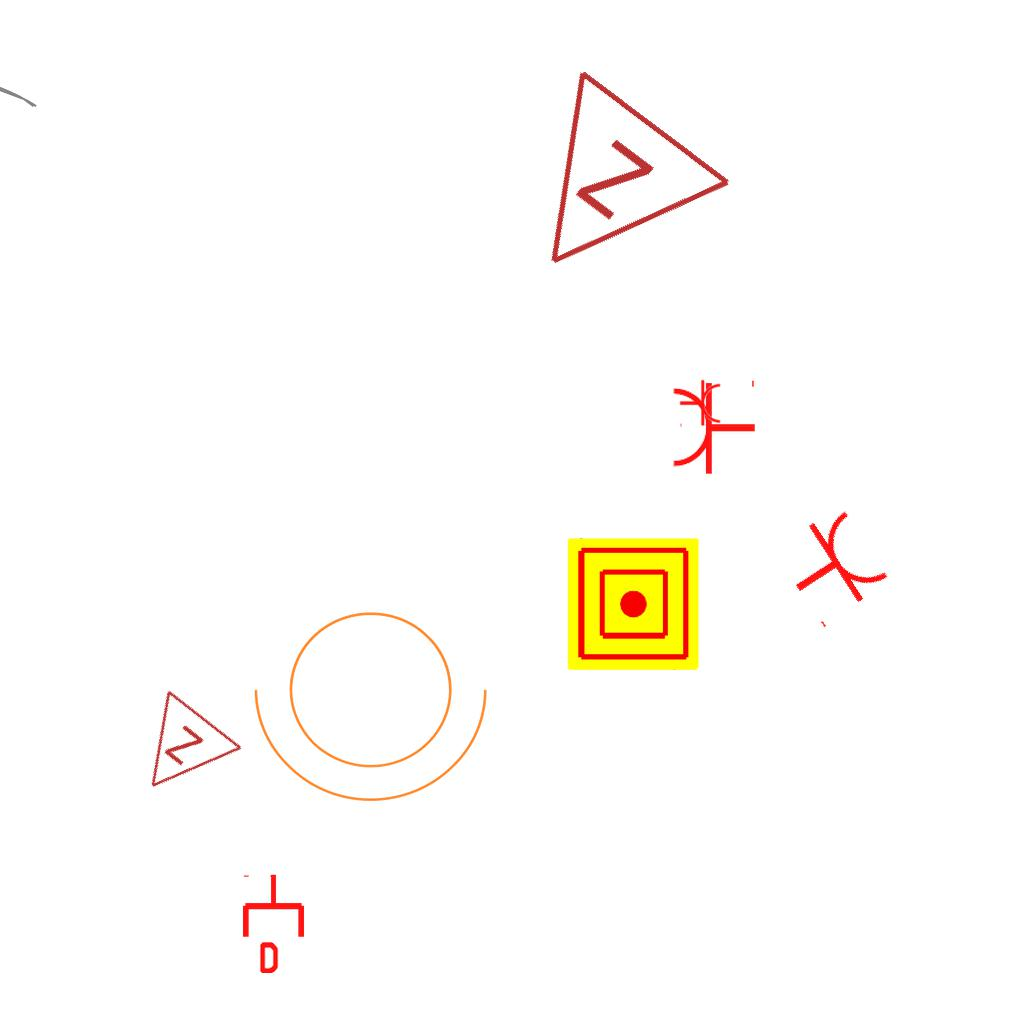Datenanschluss_einfach: (239, 873, 308, 973)
NAM-Nichtautomatischer_Melder: (567, 538, 699, 670)
Scheinwerfer_fuer_Alarmbeleuchtung: (245, 587, 509, 812)
Schukosteckdose_einfach: (769, 501, 898, 633), (670, 376, 757, 476), (679, 379, 722, 429)
Zimmersignalleuchte: (468, 56, 746, 334), (110, 683, 250, 823)
